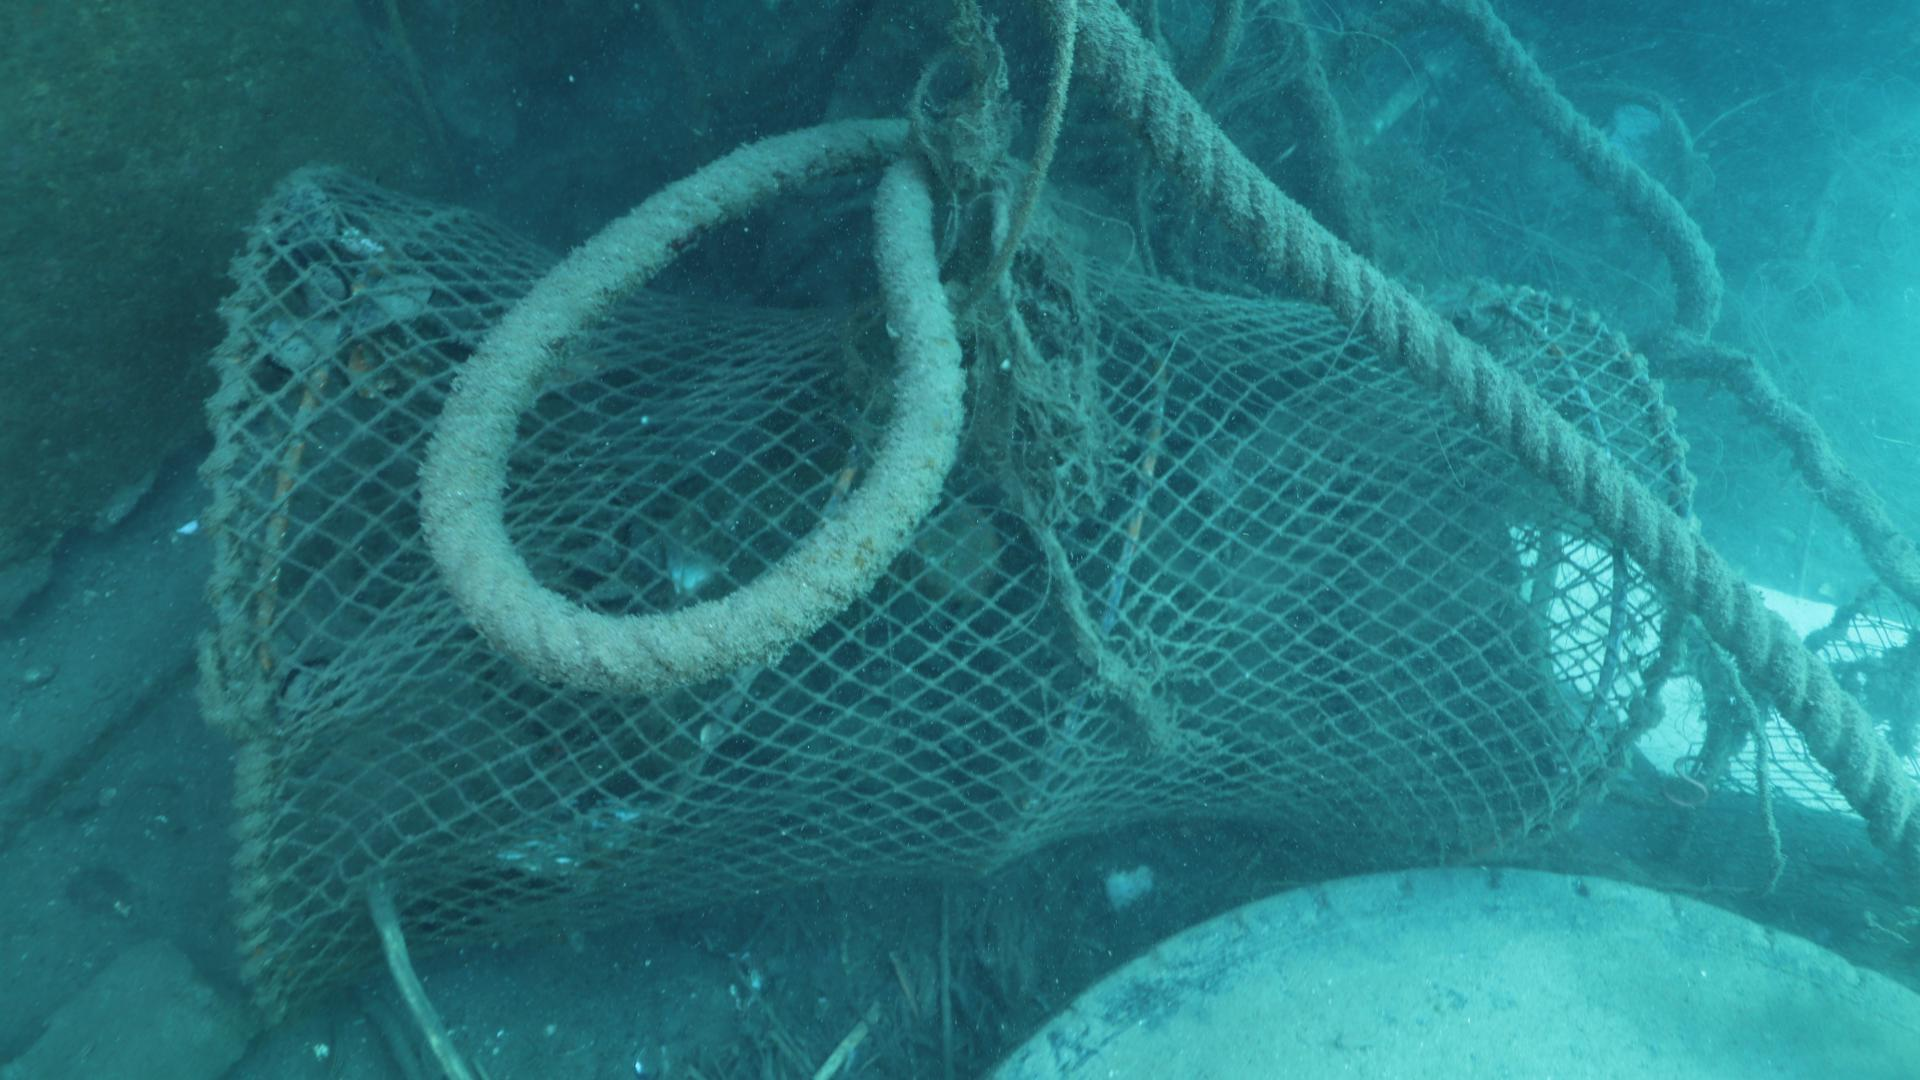rope: (1071, 0, 1920, 858), (415, 112, 972, 696), (1439, 1, 1920, 607)
spring fish trap: (200, 157, 1713, 1031)
